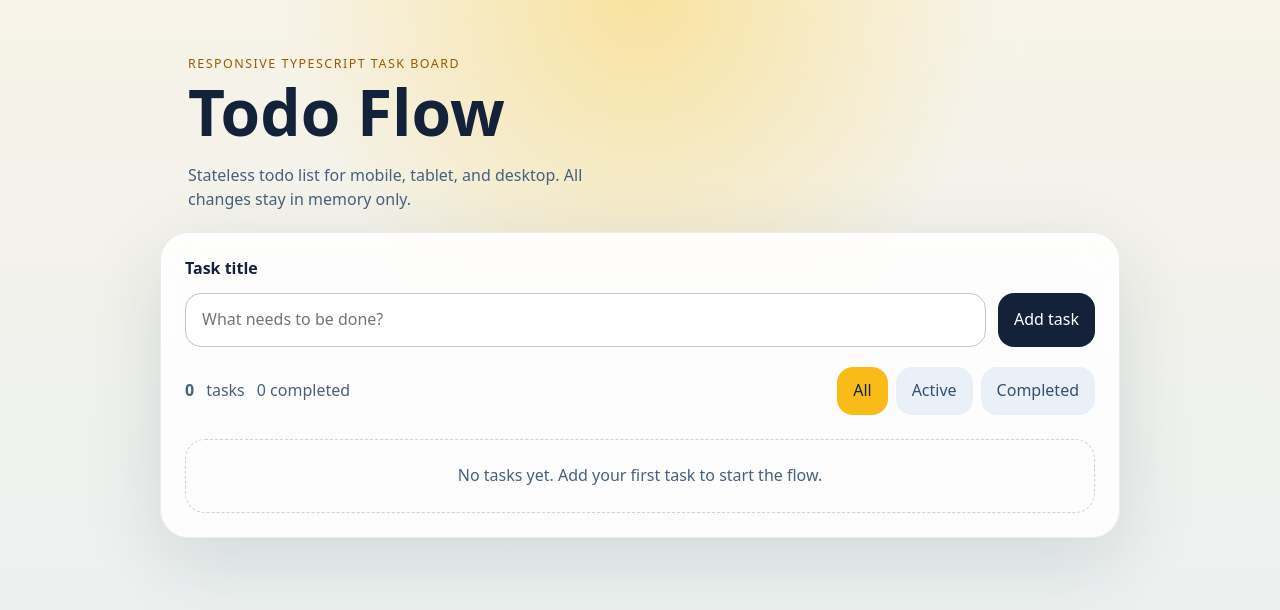
Test: App › deletes a task from the list
In the field labelled "Task title": coordinates (586, 320) [185,292,986,346], type "Delete me"
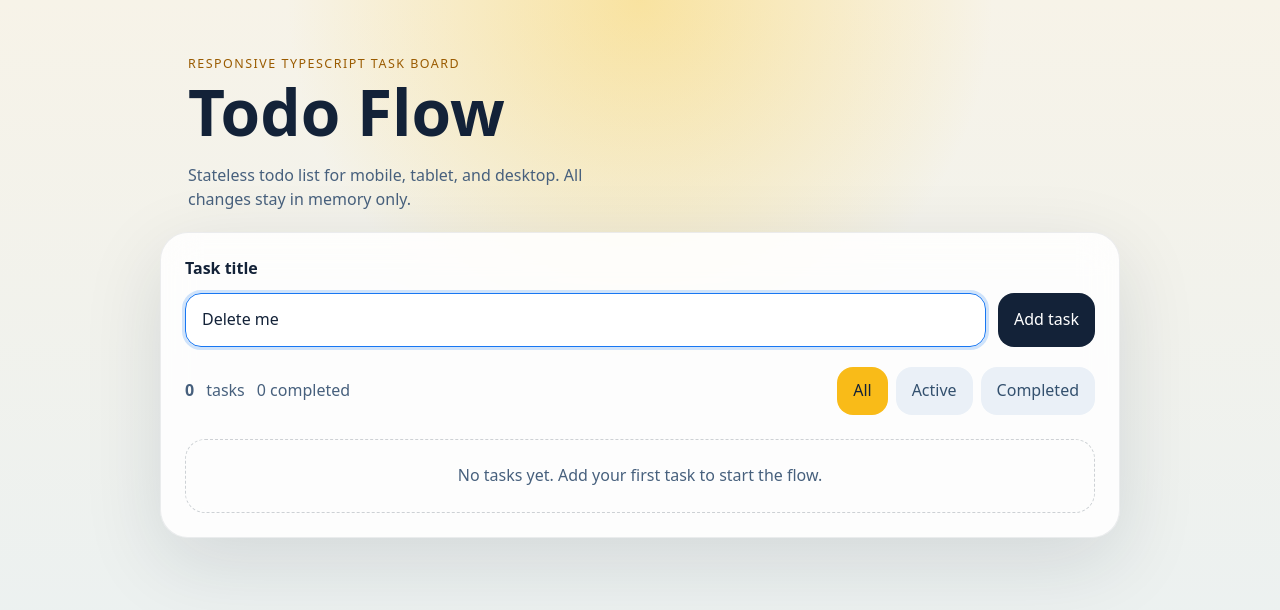
Click the button "Add task": coordinates (1046, 320) [998,292,1095,346]
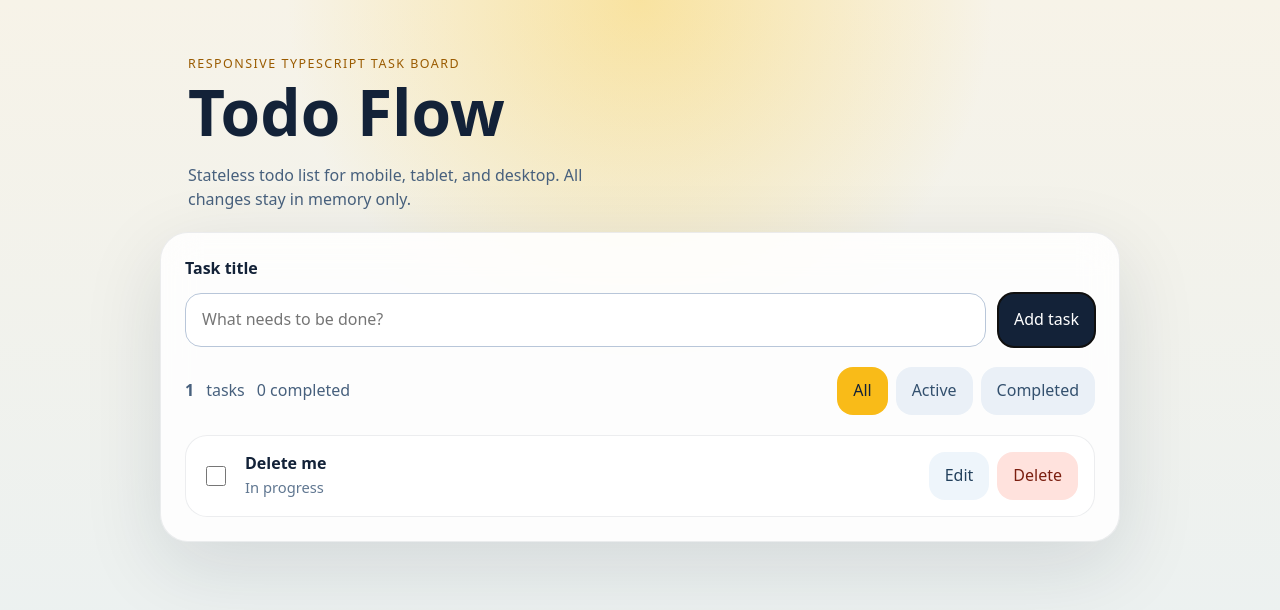
Click the button with aria-label "delete delete me": coordinates (1038, 476) [997,452,1078,500]
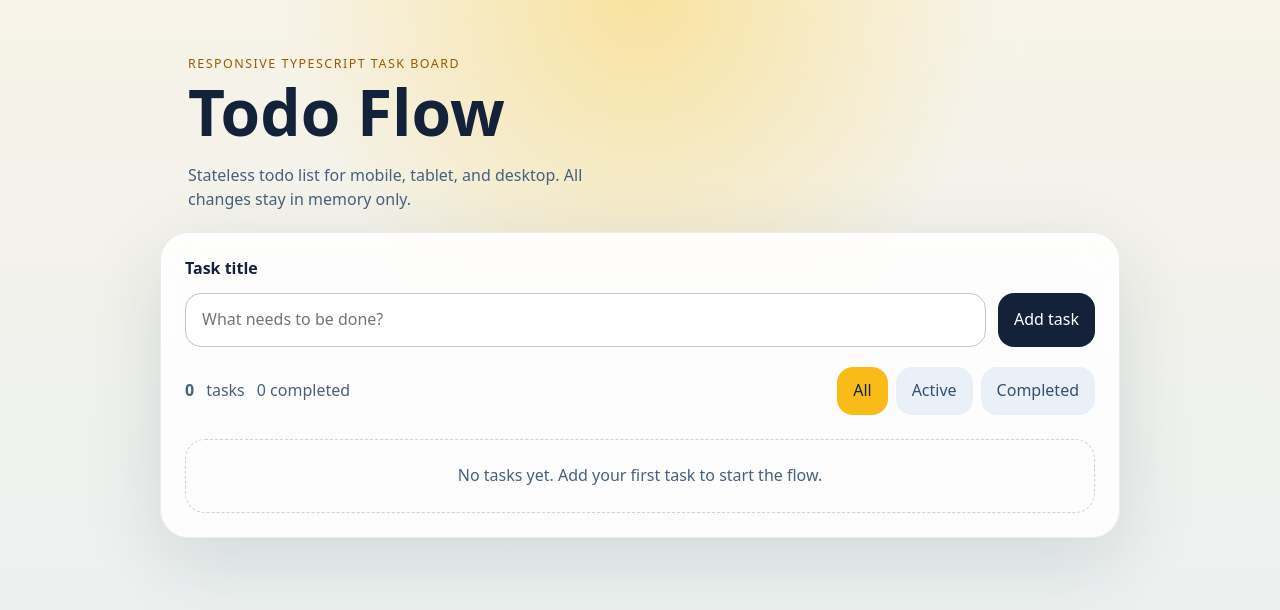
Now the text "Delete me" is gone
